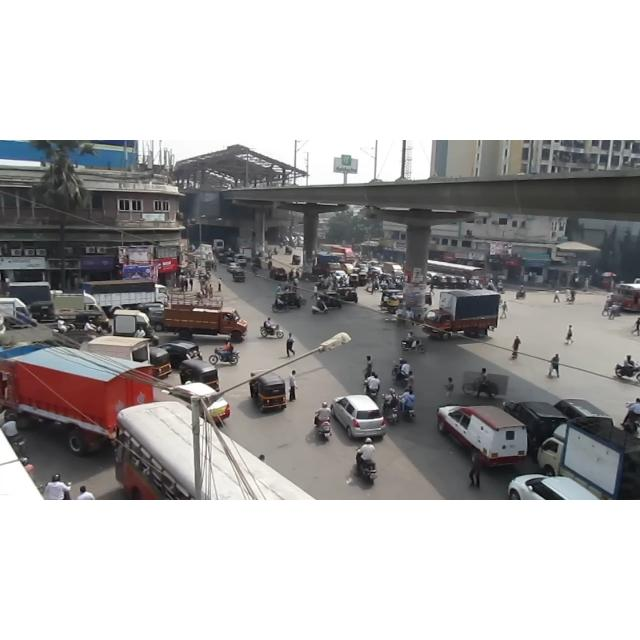auto: (176, 357, 224, 398), (249, 370, 291, 416), (73, 309, 115, 341), (31, 301, 61, 323), (276, 287, 304, 310), (336, 284, 361, 304), (230, 266, 247, 287), (291, 252, 305, 268)
car: (437, 406, 527, 466), (503, 401, 569, 459), (162, 382, 230, 422), (331, 394, 387, 438), (508, 474, 598, 500), (159, 340, 201, 368), (269, 267, 287, 281), (236, 253, 248, 267), (332, 269, 348, 279), (226, 263, 242, 273), (369, 265, 383, 275)
